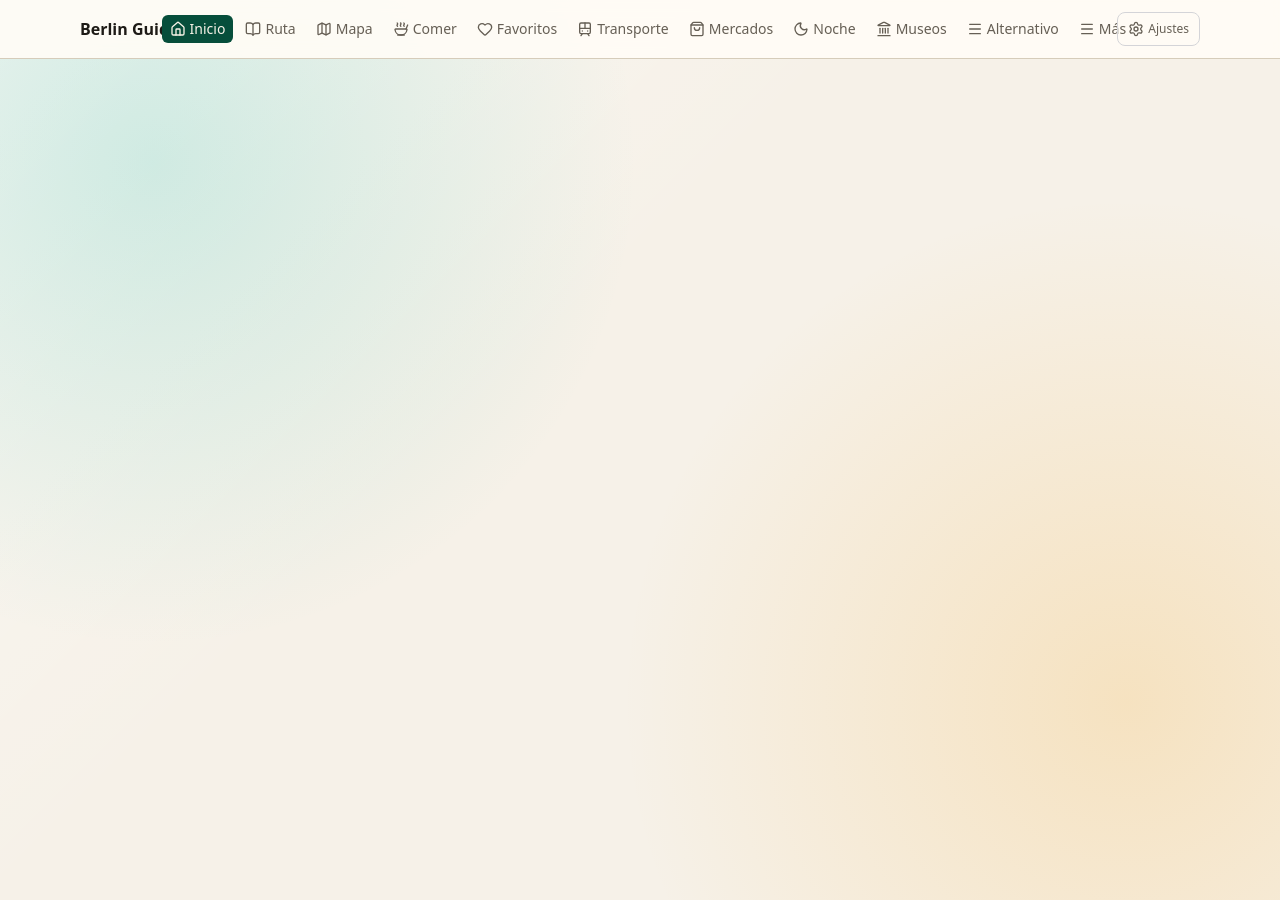
Test case: SiteNav › moves theme and language controls into the settings dropdown
Expected: the field labelled "Tema" is not shown
Click the button "Ajustes": [1159, 29] box [1117,12,1200,46]
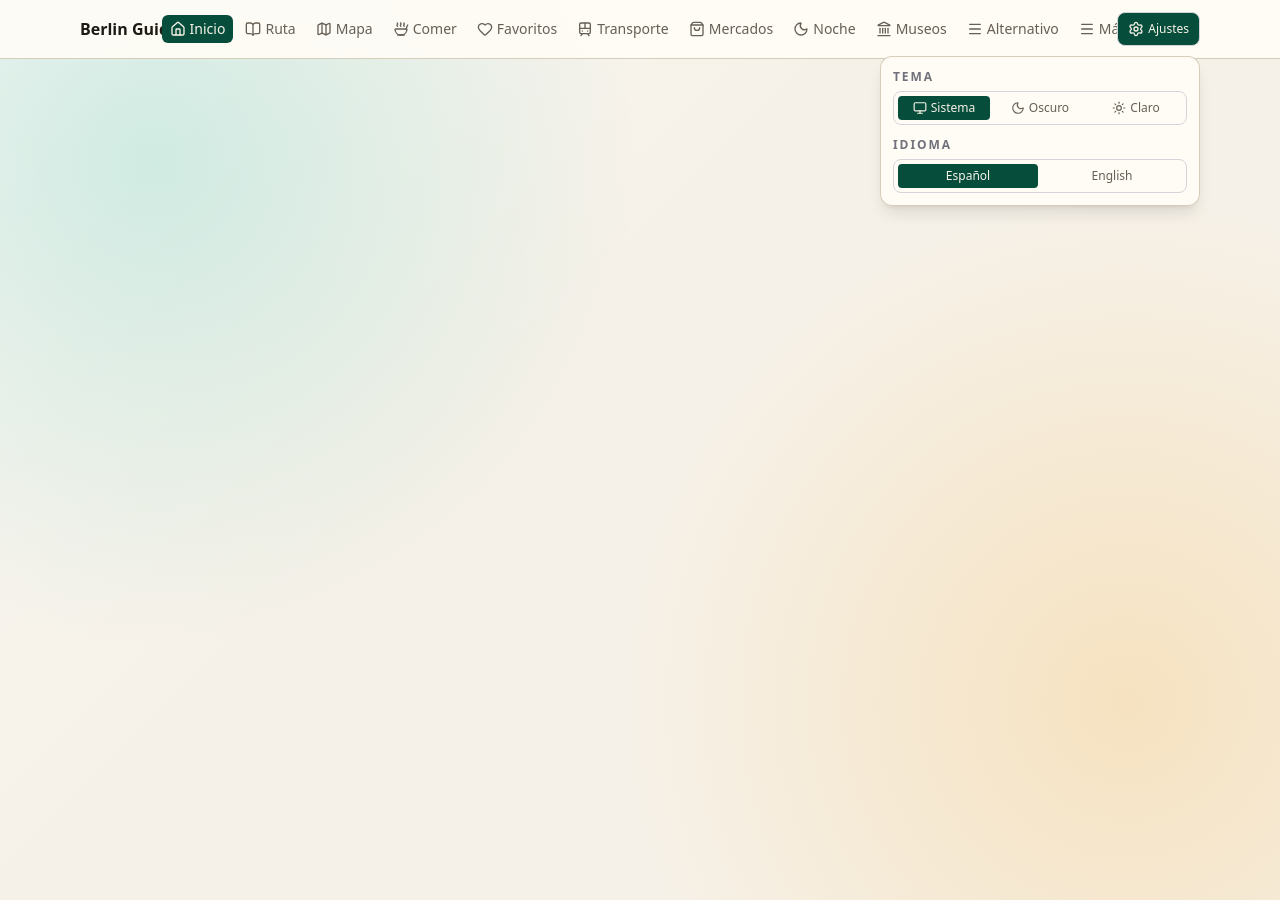
Result: the button "Ajustes" is expanded at [1117,12,1200,46]
Result: the element labelled "tema" is shown at [893,91,1187,125]
Result: the button "Oscuro" is shown at [994,96,1086,120]
